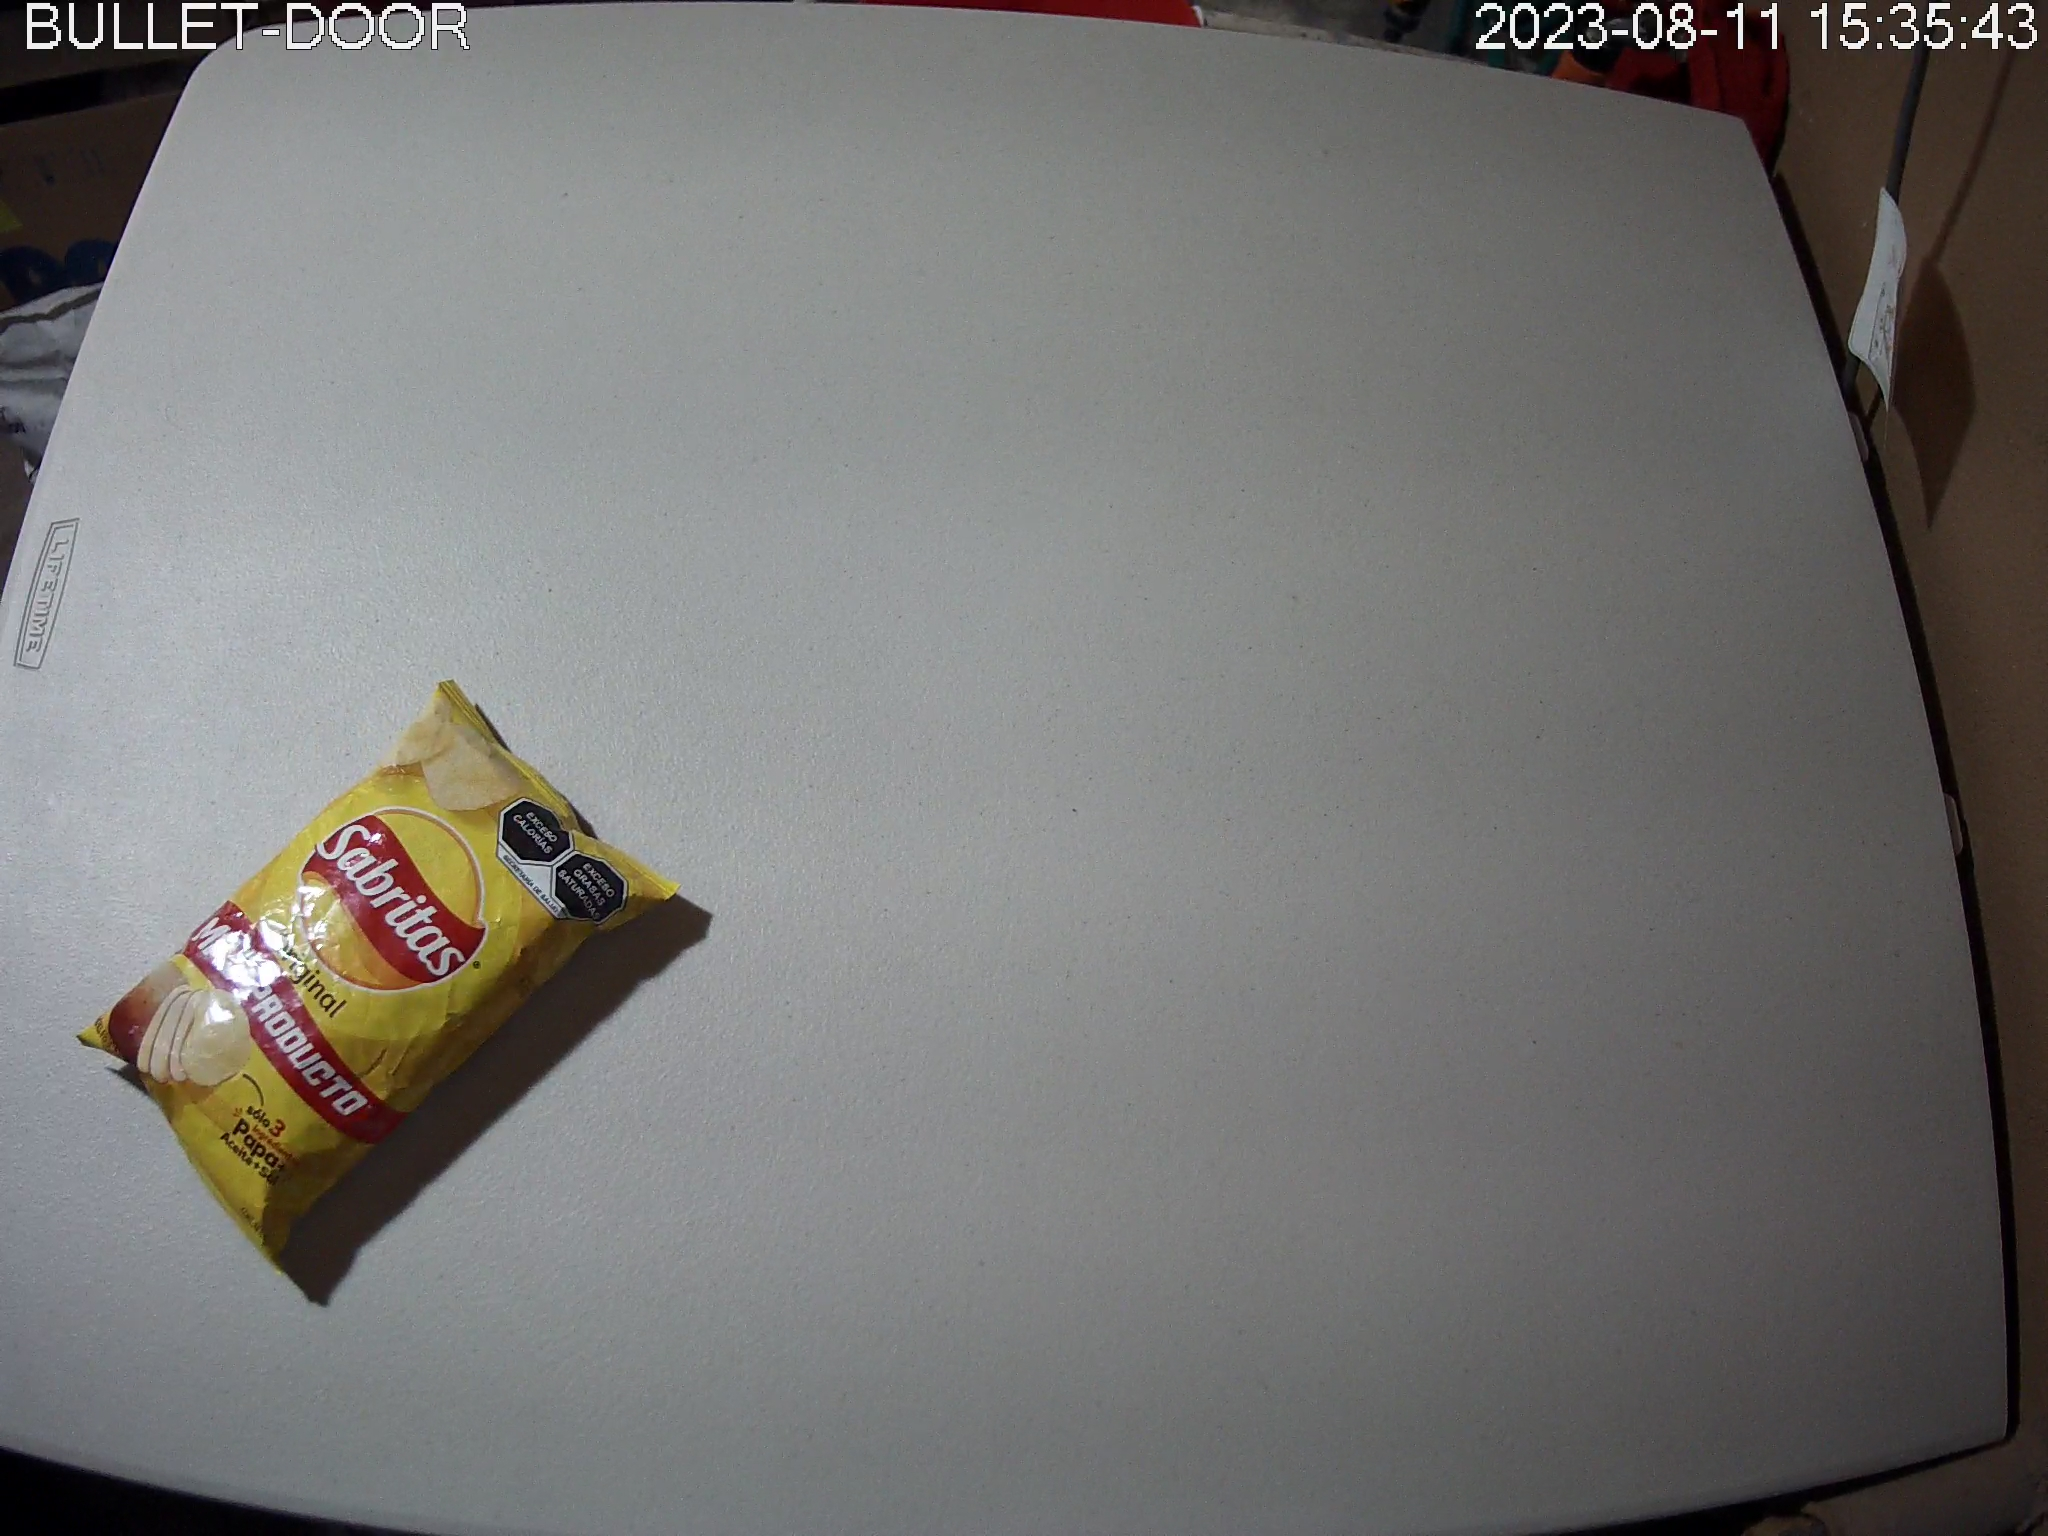Sabritas_45_F: (79, 678, 679, 1263)
